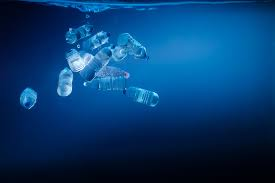plastic_bottle: (80, 42, 118, 83), (116, 32, 155, 63), (123, 86, 162, 110), (82, 76, 128, 92), (56, 66, 76, 100), (17, 84, 40, 113), (66, 22, 95, 45), (61, 48, 85, 70), (85, 32, 113, 49)
